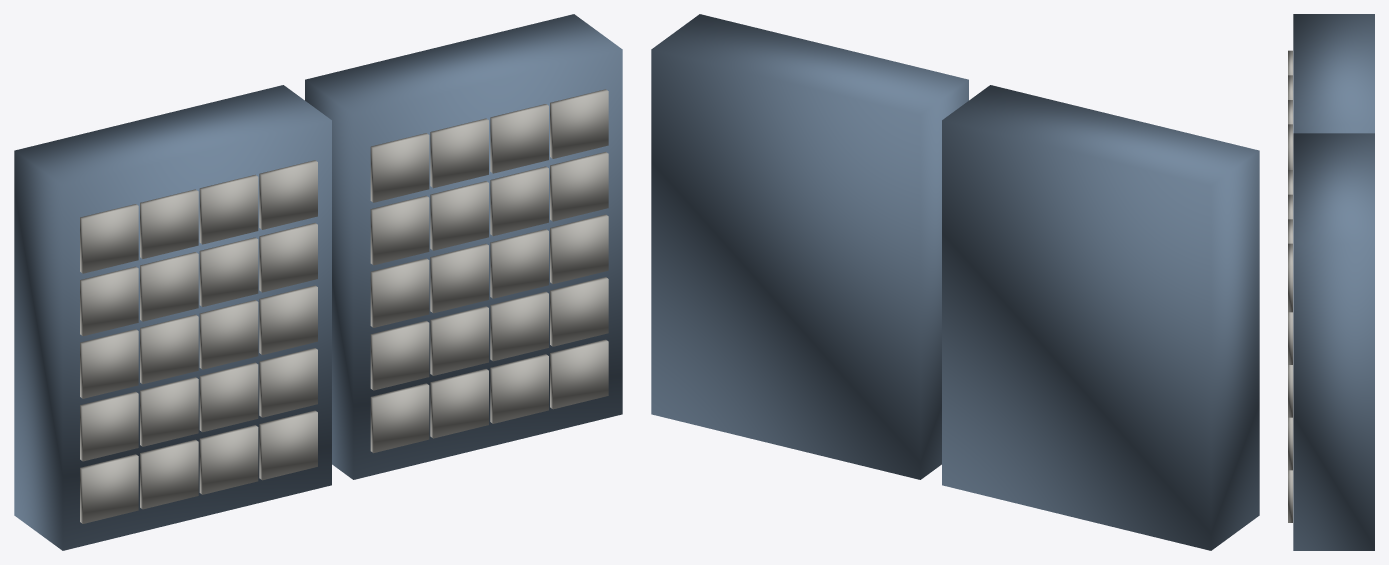
The model's file is parcel_locker__cluster.glb.
3 views of the same model, side by side, from view 1: azimuth 30°, elevation 25°; view 2: azimuth 150°, elevation 25°; view 3: azimuth 270°, elevation 25° (orthographic). The views are drawn at different scales.
Parts seen in each view (by area): view 1: world; view 2: world; view 3: world.
Part boxes in pixels (x1=…): world: x1=14, y1=14, x2=622, y2=550; world: x1=651, y1=14, x2=1259, y2=550; world: x1=1288, y1=14, x2=1374, y2=550.
Size of the model in its own units: 2.81 by 1.75 by 0.4475.
